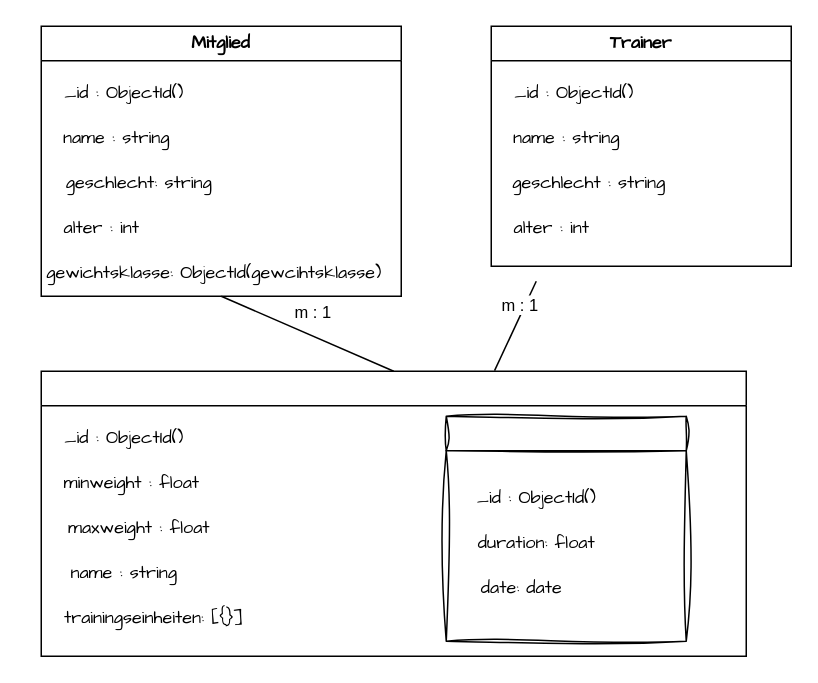
Image size: 818x683. Some labels were removed from this diagram. The shapes that lost their labels are listed below. From the top down, each one's box as (x1, y1, x2, y2) in pixels, then its label:
(40, 370, 746, 656): Gewichtsklassen
(445, 415, 686, 641): Trainingseinheit
